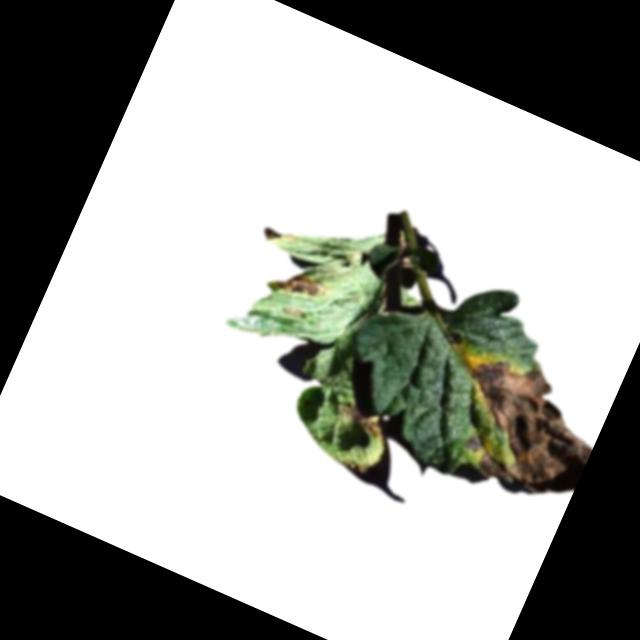Early_blight: (423, 337, 612, 509), (274, 268, 329, 310), (334, 401, 387, 440), (278, 301, 307, 325), (341, 453, 370, 475)
